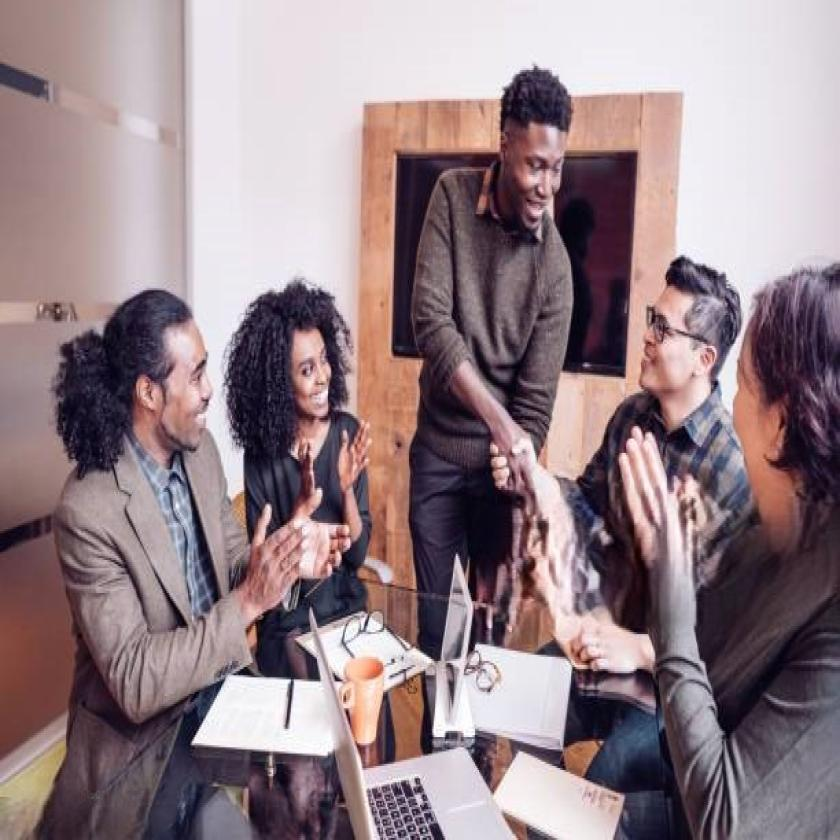Sin_casco: (730, 264, 840, 546), (107, 285, 218, 465), (488, 60, 574, 258), (632, 250, 736, 402), (263, 287, 339, 442)
